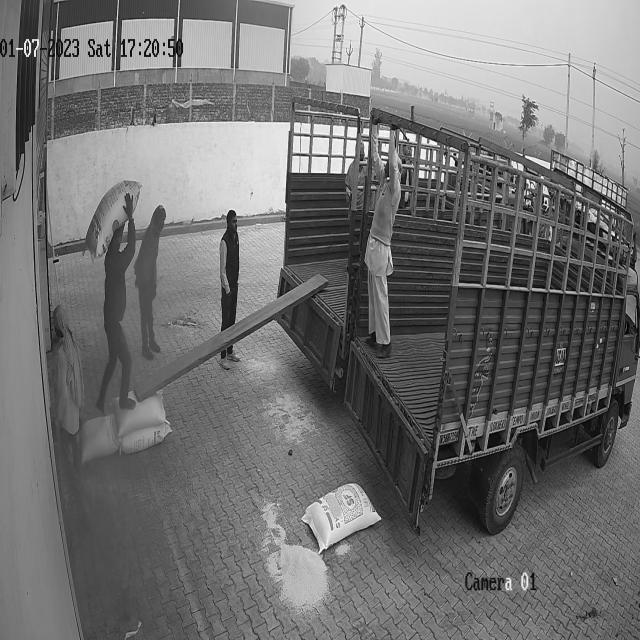sack: (302, 482, 381, 551), (85, 180, 142, 260), (112, 390, 166, 438), (79, 413, 117, 463), (120, 421, 172, 454)
